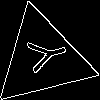Y: (18, 33, 70, 76)
